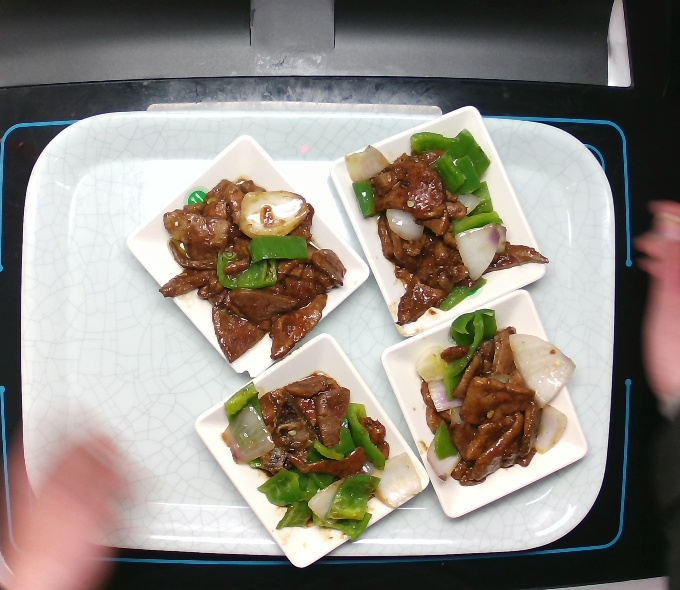wcq-ZhuGan: (339, 121, 553, 329), (148, 171, 349, 367), (218, 368, 431, 549), (409, 298, 583, 492)
